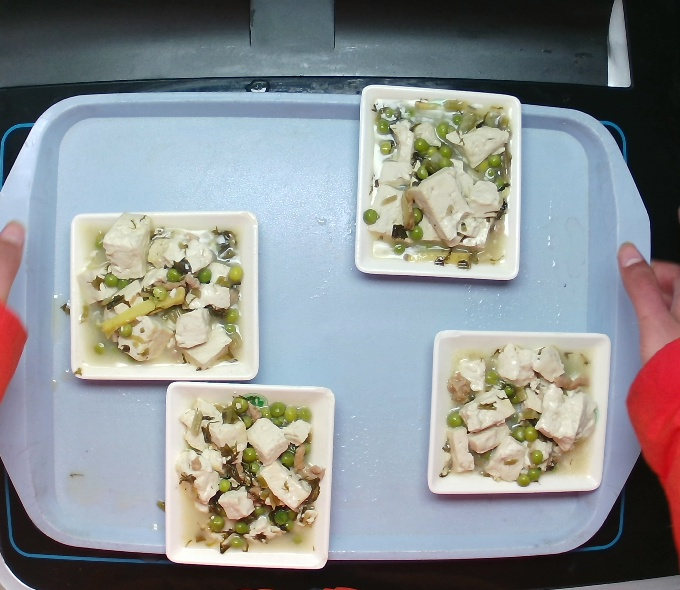wcq-CanDouDouFu: (61, 210, 260, 382), (353, 92, 531, 280), (168, 385, 330, 557), (440, 336, 592, 493)
